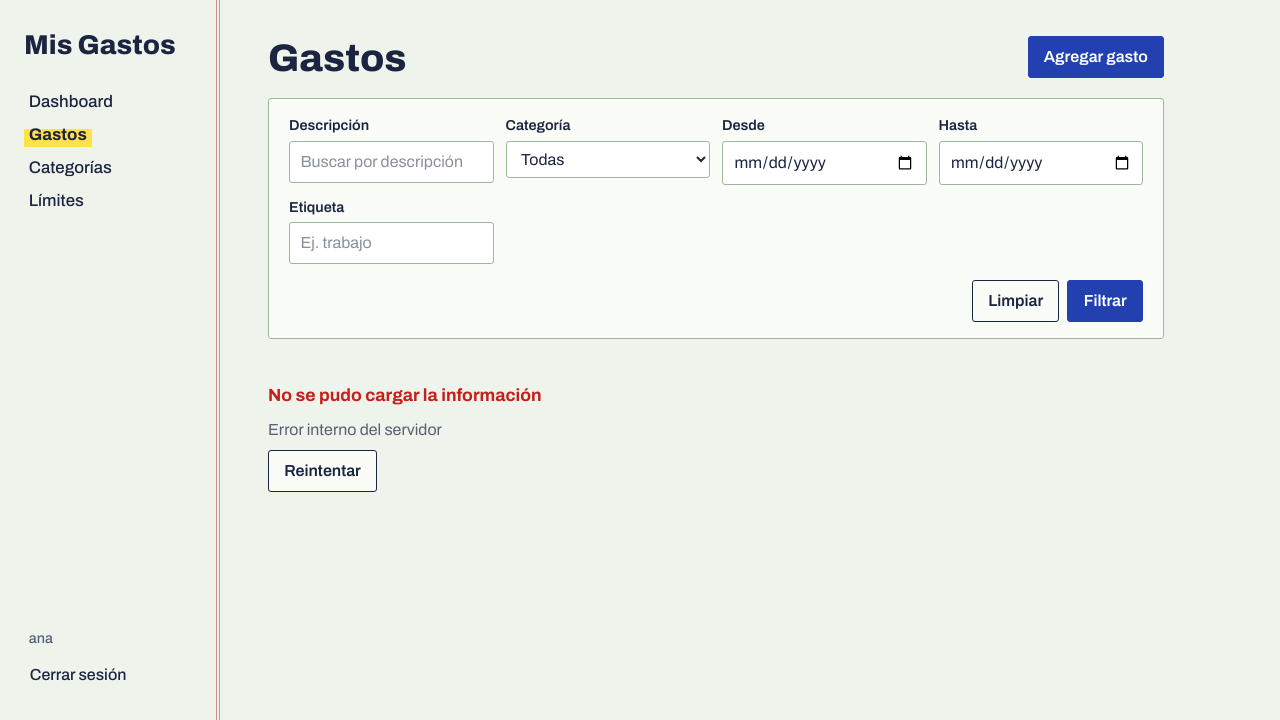
Scenario: ExpensesPage: list › shows the error state and retries
The image size is (1280, 720).
Expected: the heading "Gastos" is shown, [268,38,407,78]
Expected: the text "No se pudo cargar la información" is shown, [268,383,542,410]
Step 1. Click the button "Reintentar" → (323, 471), box [268,450,377,492]
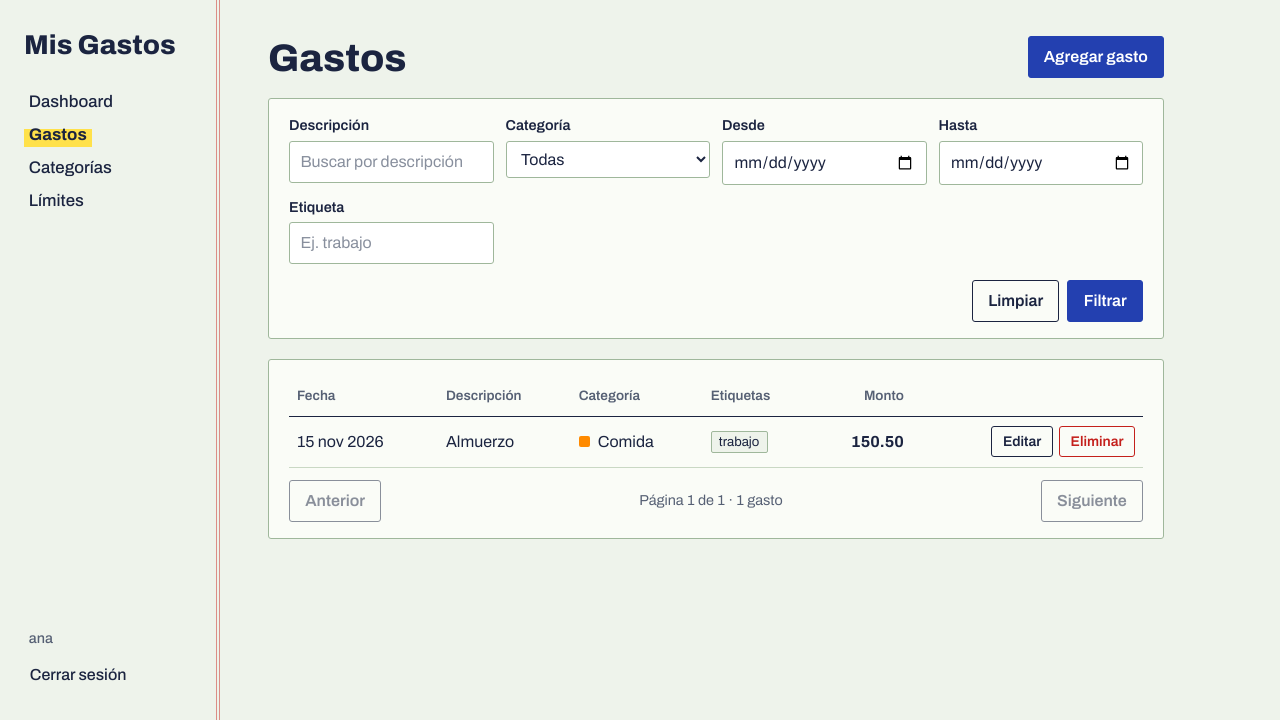
Result: the text "Almuerzo" is shown at [438,416,571,468]
